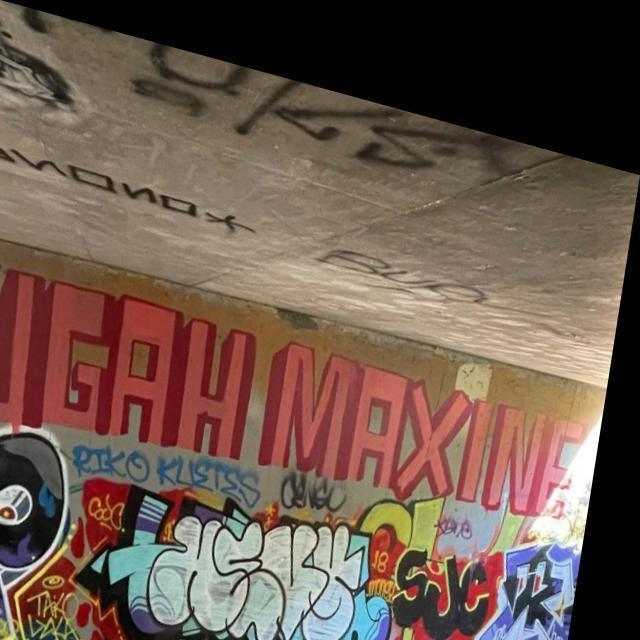nonspitting: (0, 266, 585, 509), (0, 429, 577, 640), (13, 10, 521, 183), (0, 145, 252, 248), (71, 439, 262, 509), (278, 470, 350, 512)
